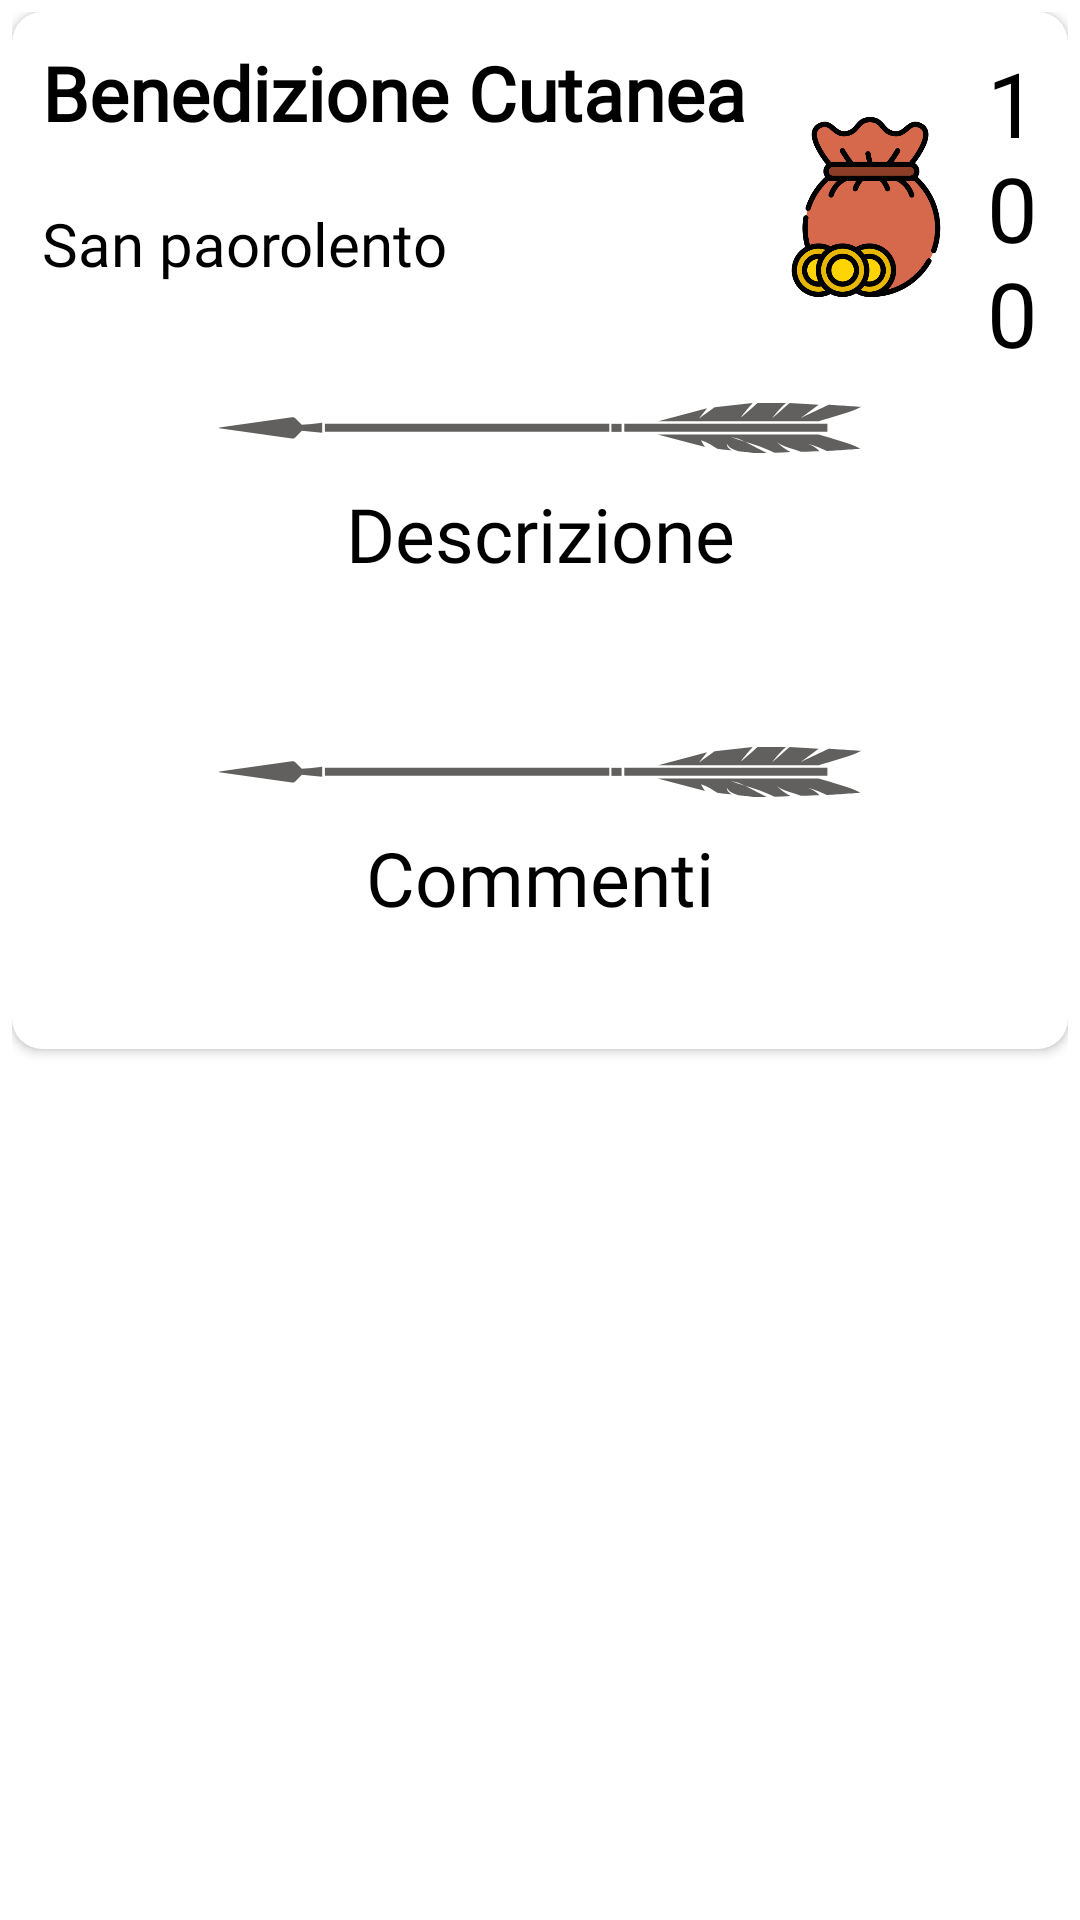

Icons on this 1080 x 1920 Android screen, each with the point to tap as point (x, y):
saccobaiocchi: point (866, 207)
